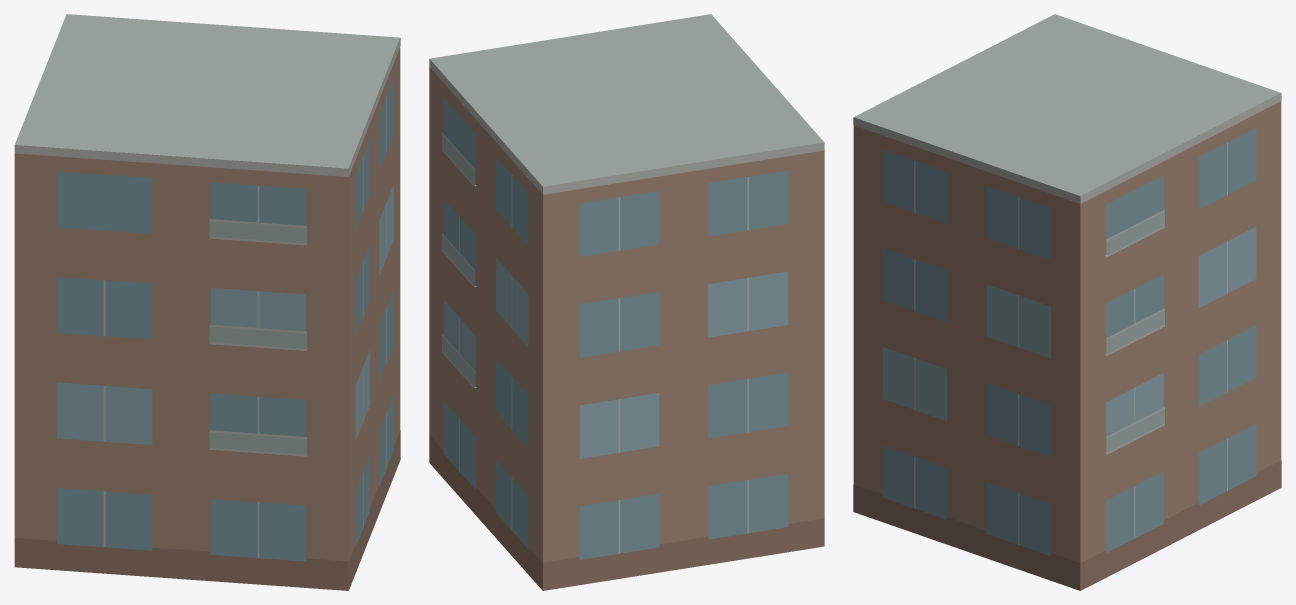
Rendered from residential-81191680-7dcd-4022-acc4-b326258aacef.glb.
3 renders of one model, left to right at view 1: azimuth 30°, elevation 25°; view 2: azimuth 150°, elevation 25°; view 3: azimuth 270°, elevation 25°, orthographic. The views are drawn at different scales.
Visible parts, largest first — view 1: residential-81191680-7dcd-4022-acc4-b326258aacef.tmp; view 2: residential-81191680-7dcd-4022-acc4-b326258aacef.tmp; view 3: residential-81191680-7dcd-4022-acc4-b326258aacef.tmp.
Part boxes in pixels (left/top/right/bottom): residential-81191680-7dcd-4022-acc4-b326258aacef.tmp: left=14, top=14, right=400, bottom=590; residential-81191680-7dcd-4022-acc4-b326258aacef.tmp: left=429, top=14, right=824, bottom=590; residential-81191680-7dcd-4022-acc4-b326258aacef.tmp: left=853, top=14, right=1281, bottom=590.
Bounding box in the file's own units: 12.08 × 12.2 × 12.
